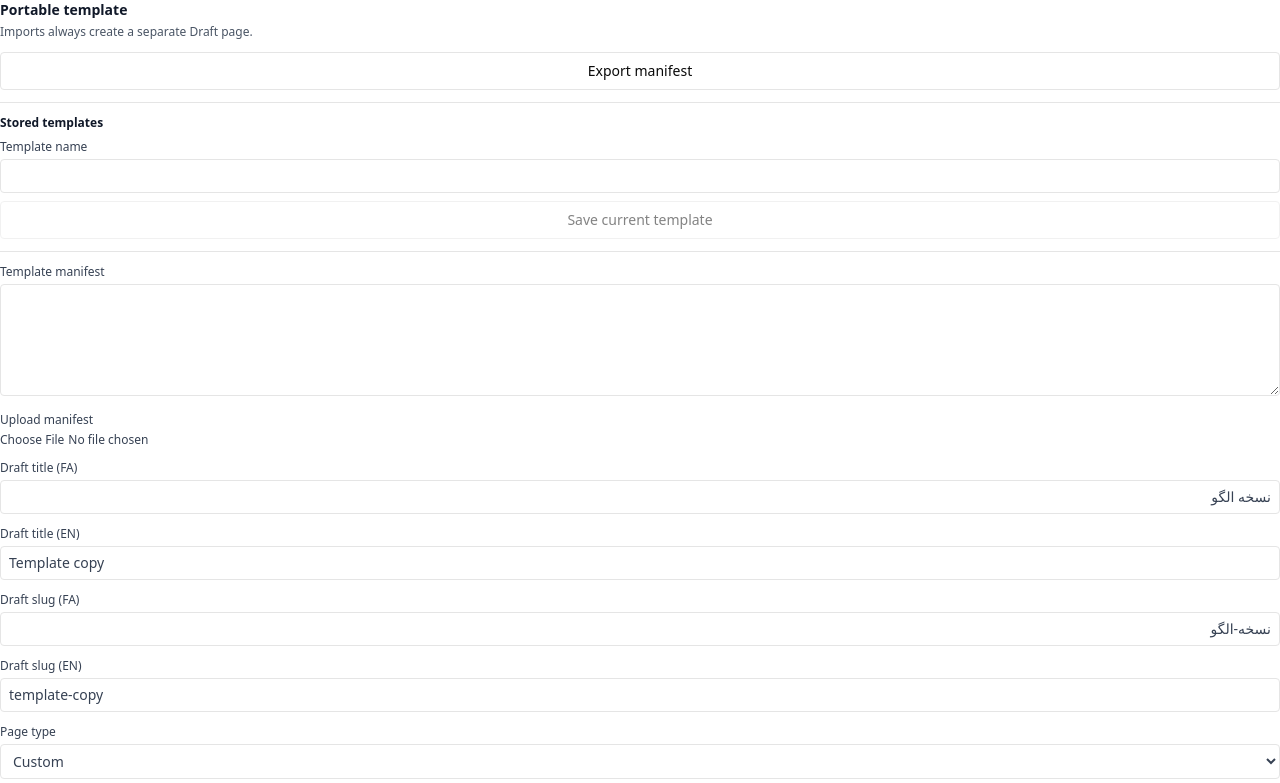
TemplatePanel › saves the current canonical manifest to the stored template library
Expected: the heading "Stored templates" is shown, top-left (0, 114), bottom-right (103, 131)
Type "Homepage section" into the field labelled "Template name".
click(640, 176); type("Homepage section")  # box top-left (0, 159), bottom-right (1279, 193)
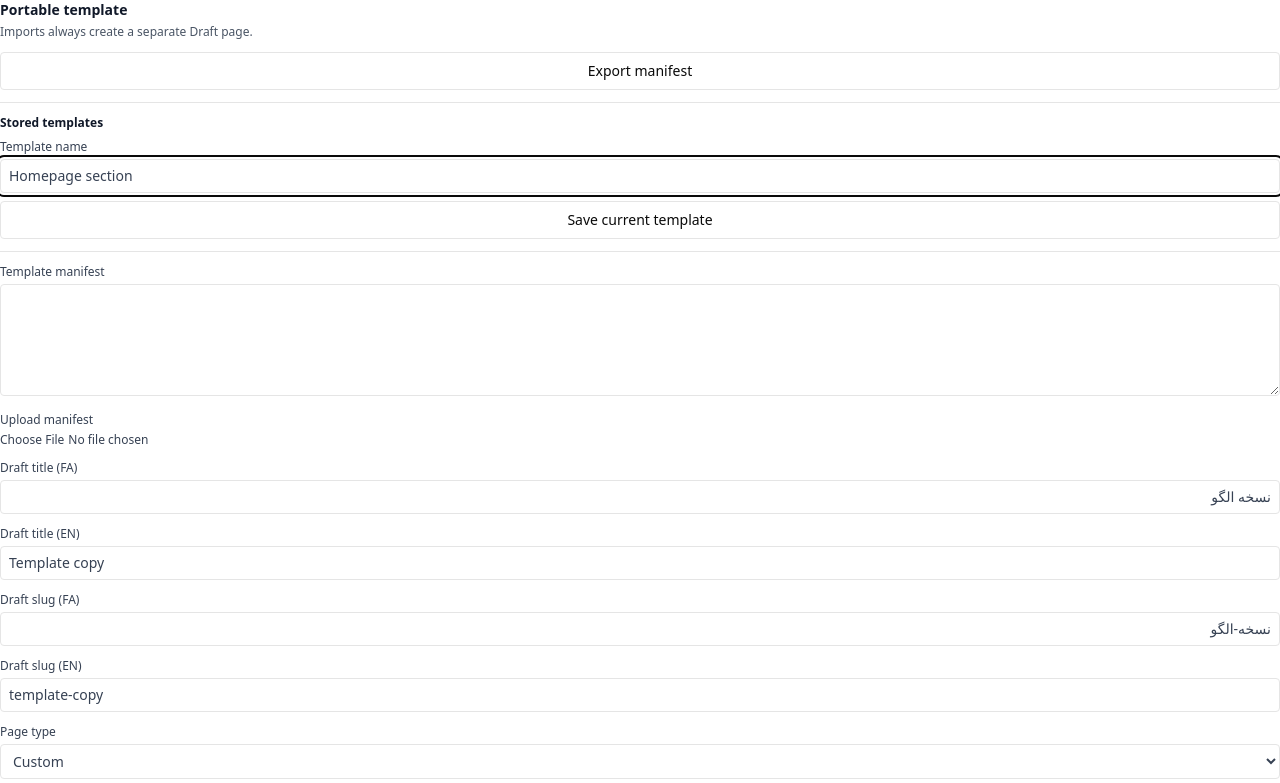
Click the button "Save current template".
click(640, 220)  # box top-left (0, 201), bottom-right (1279, 239)
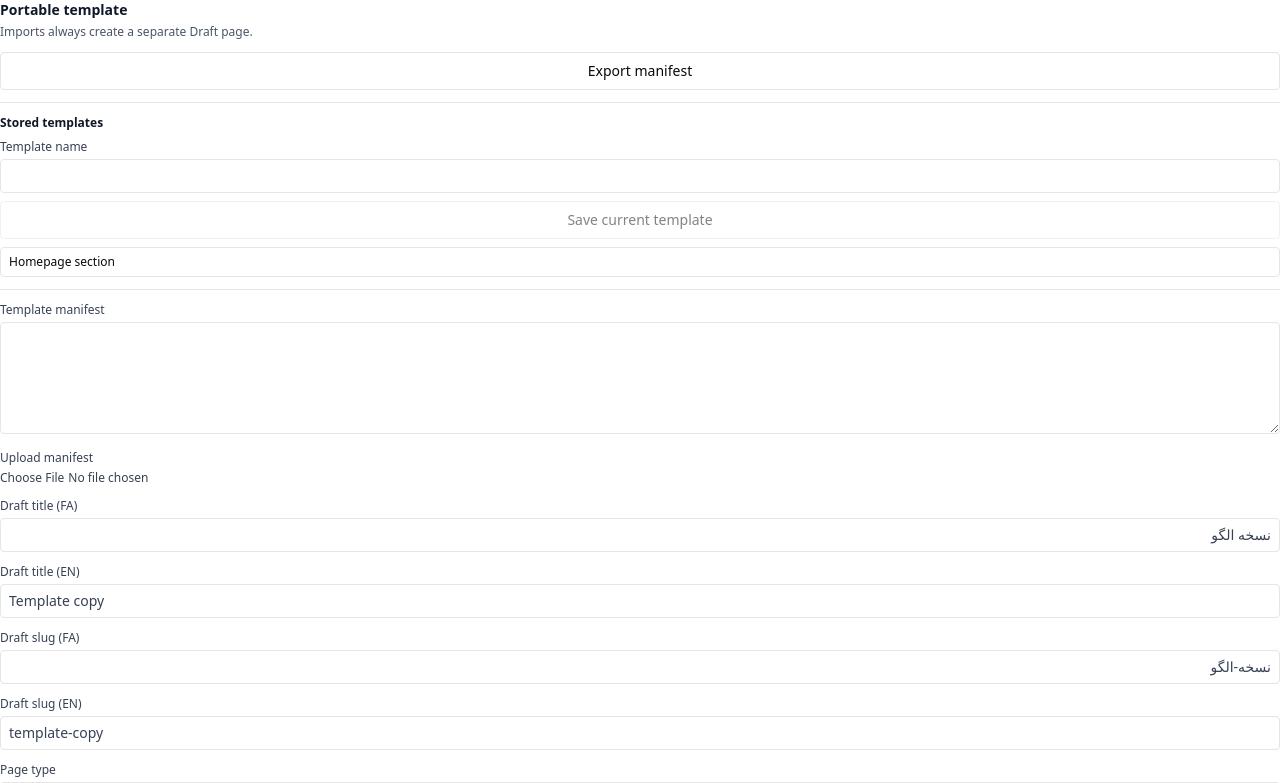
Now the button "Homepage section" is shown, box top-left (0, 247), bottom-right (1279, 277)
